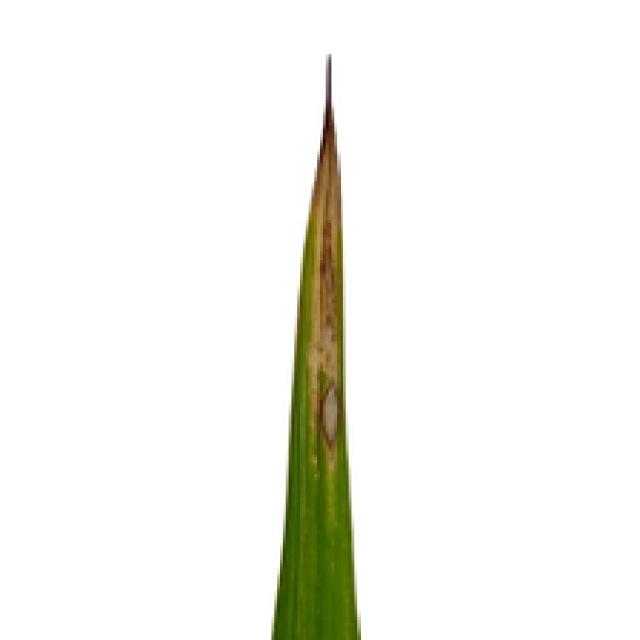Rice___Bacterial_Leaf_Blight: (269, 49, 365, 637)
